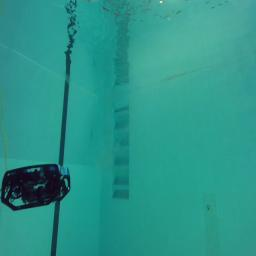Side: (1, 164, 71, 210)
